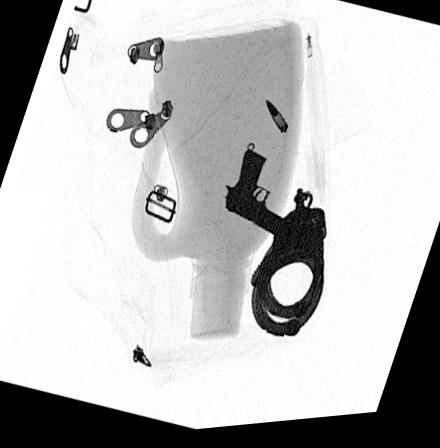Bullet: (265, 103, 289, 138)
Gun: (224, 152, 290, 247)
HandCuffs: (249, 191, 327, 344)
